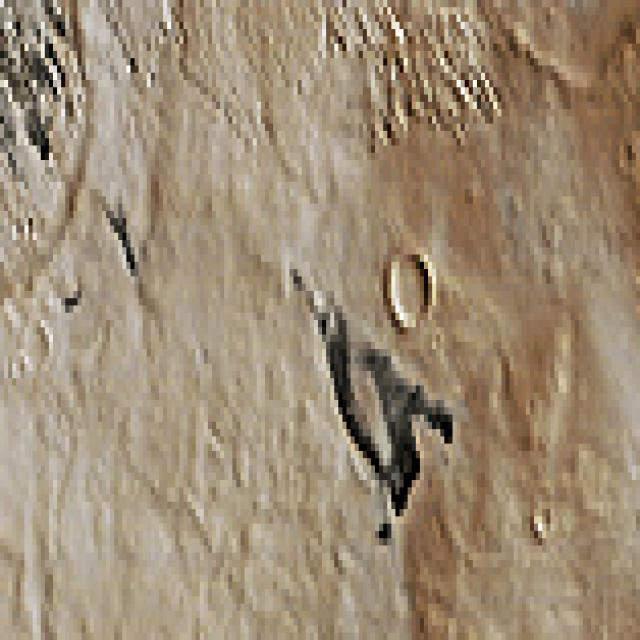Crater: (436, 0, 640, 95), (363, 226, 469, 378)
